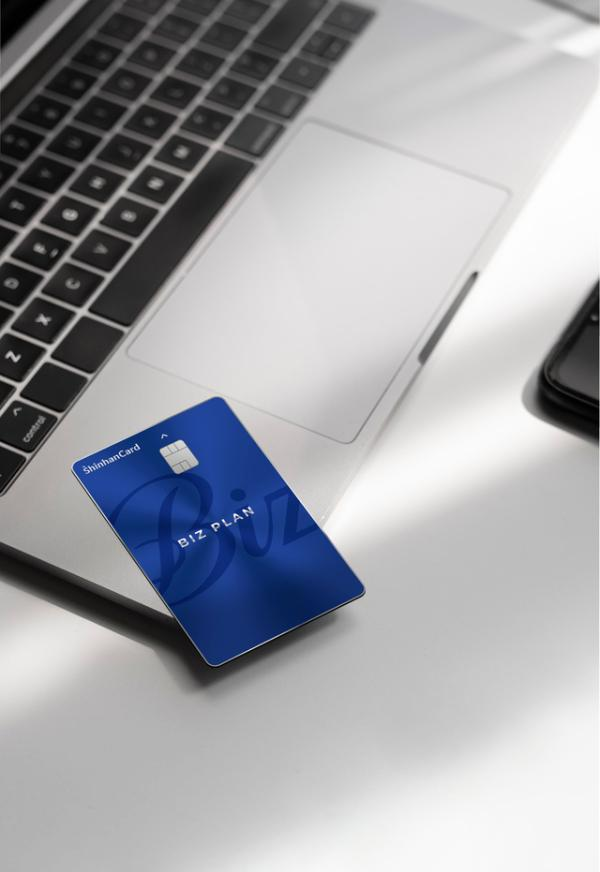Credit_card: (74, 398, 363, 666)
